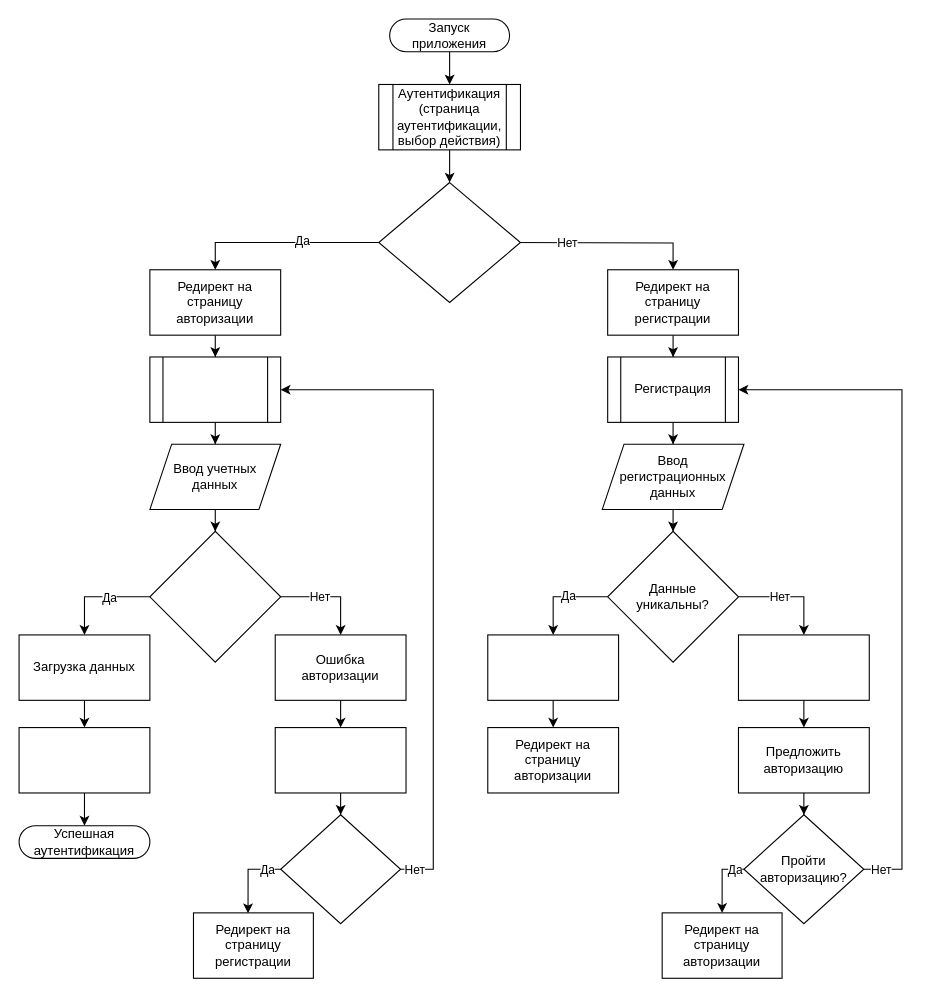
The diagram is 930 pixels wide and 997 high, and some of its shapes have lost their labels. Each missing label, with the box of its shape:
Авторизация: (149, 356, 281, 422)
Данные подтверждены?: (149, 530, 281, 662)
Ошибка регистрации: (737, 634, 869, 700)
Предложить регистрацию: (274, 726, 406, 793)
Пройти регистрацию?: (280, 814, 401, 924)
Редирект на главную страницу: (18, 726, 150, 793)
Создание аккаунта: (487, 634, 619, 700)
Существующий пользователь?: (378, 181, 520, 302)
